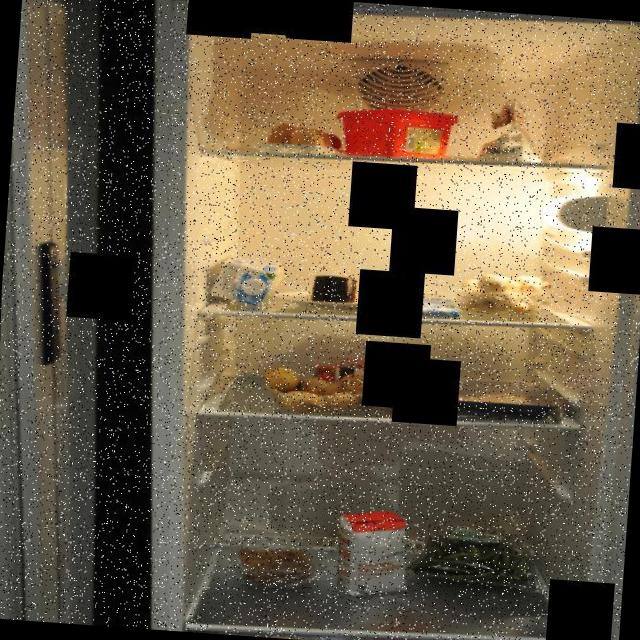Carne pollo: (389, 376, 533, 421)
Champiñones: (446, 267, 550, 321)
Gambas/Langostinos: (230, 538, 318, 590)
Huevos: (264, 118, 342, 156)
Leche: (198, 250, 283, 308)
Mantequilla: (332, 99, 460, 163)
Patata: (258, 361, 396, 420)
Queso: (306, 271, 362, 307)
